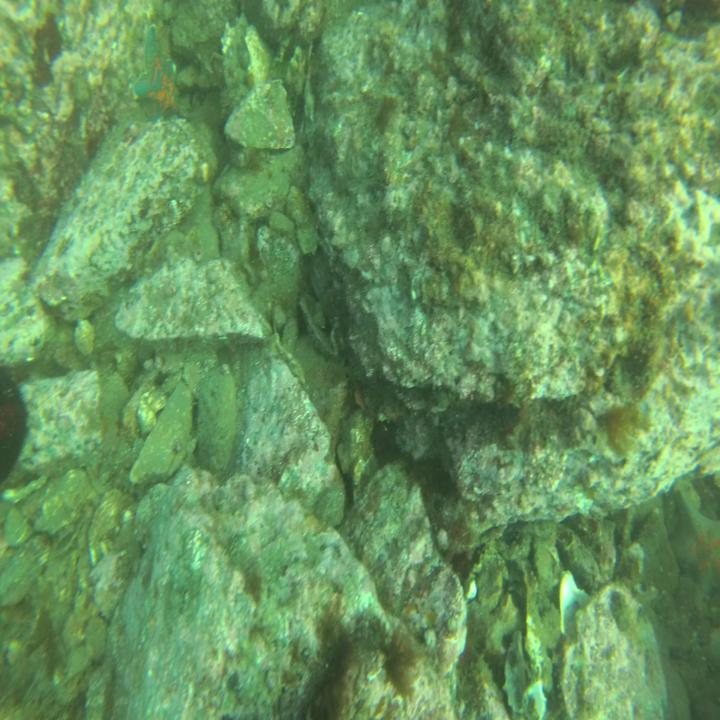starfish: (128, 27, 184, 128)
